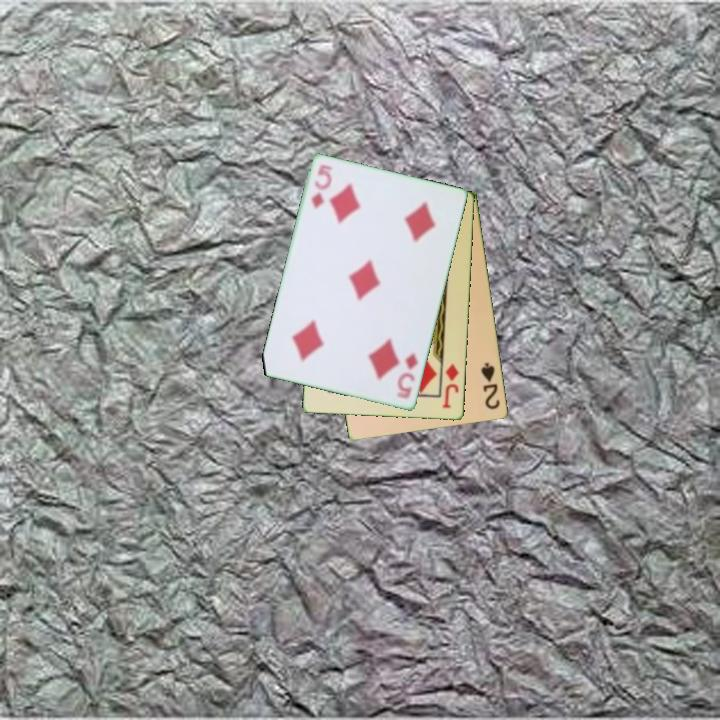2s: (478, 359, 503, 412)
5d: (394, 349, 421, 402), (308, 166, 333, 213)
Jd: (439, 361, 462, 411)
